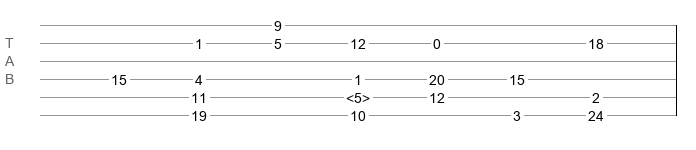0: (433, 36, 441, 46)
1: (195, 36, 203, 46), (354, 72, 362, 82)
10: (350, 108, 366, 118)
11: (191, 90, 207, 100)
12: (350, 36, 366, 46), (429, 90, 445, 100)
15: (111, 72, 127, 82), (509, 72, 525, 82)
18: (588, 36, 604, 46)
19: (191, 108, 207, 118)
2: (592, 90, 600, 100)
20: (429, 72, 445, 82)
24: (588, 108, 604, 118)
3: (513, 108, 521, 118)
4: (195, 72, 203, 82)
5: (274, 36, 282, 46)
9: (274, 18, 282, 28)
harmonic: (346, 90, 370, 100)
